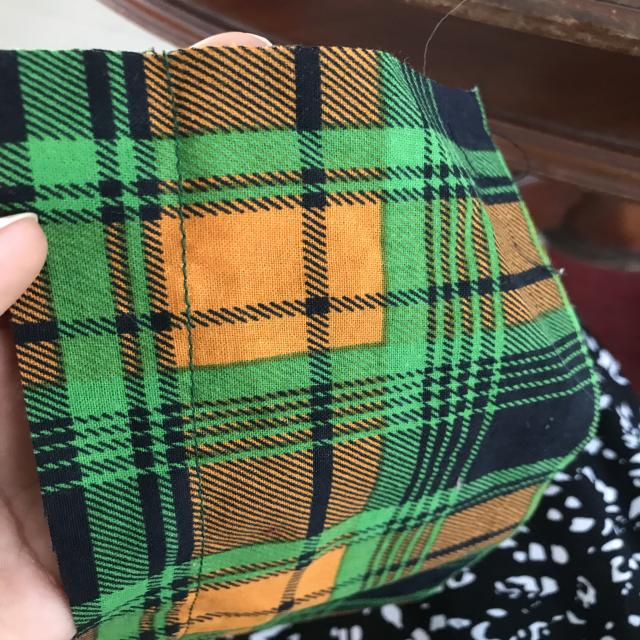good: (159, 227, 221, 292)
